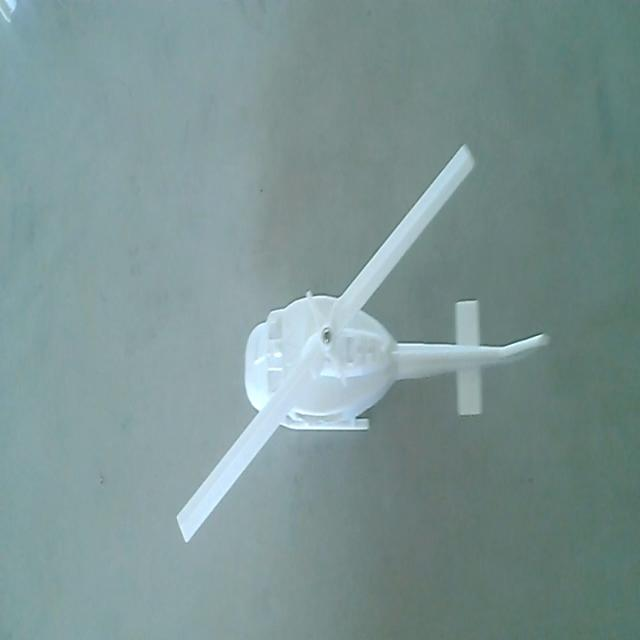Helicopter: (176, 132, 548, 556)
